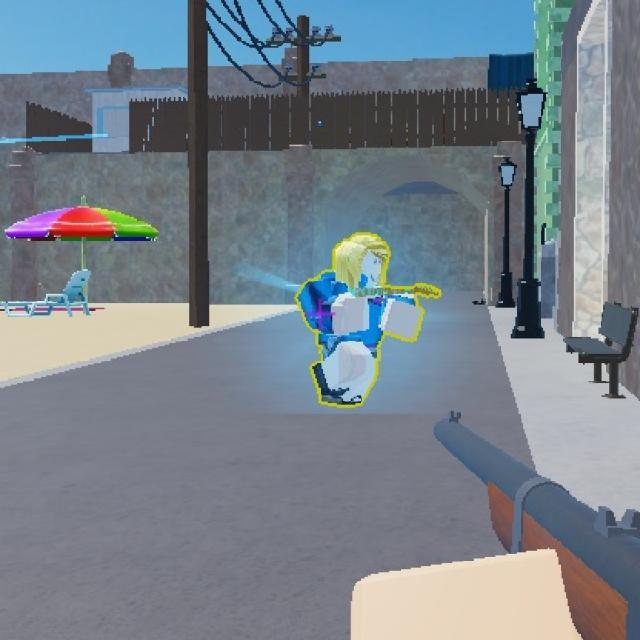player: (303, 227, 413, 412)
